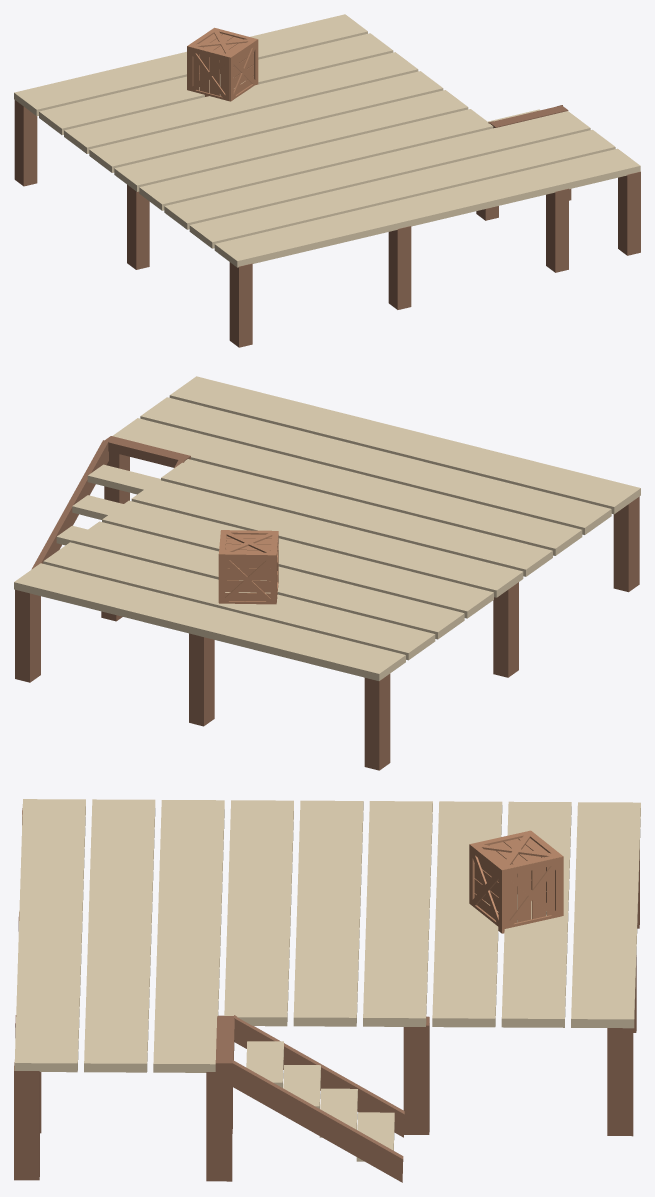
The model's file is podea.obj.
3 views of the same model, one above another, from view 1: azimuth 30°, elevation 25°; view 2: azimuth 150°, elevation 25°; view 3: azimuth 270°, elevation 25° (orthographic). The views are drawn at different scales.
Parts seen in each view (by area): view 1: podea_Wall.003, podea_Roof.004, podea_Box.002; view 2: podea_Wall.003, podea_Roof.004, podea_Box.002; view 3: podea_Wall.003, podea_Roof.004, podea_Box.002.
Boxes of the visible parts, x1,y1,x2,y2 form: podea_Wall.003: (14,14,640,267); podea_Roof.004: (14,100,640,347); podea_Box.002: (187,27,258,101); podea_Wall.003: (14,376,640,680); podea_Roof.004: (15,436,639,770); podea_Box.002: (218,530,278,604); podea_Wall.003: (14,799,640,1161); podea_Roof.004: (14,808,639,1182); podea_Box.002: (469,830,563,933).
Bounding box in the file's own units: 18.68 × 5.77 × 18.55.
